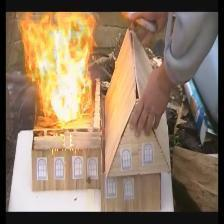fire: (12, 15, 103, 123)
